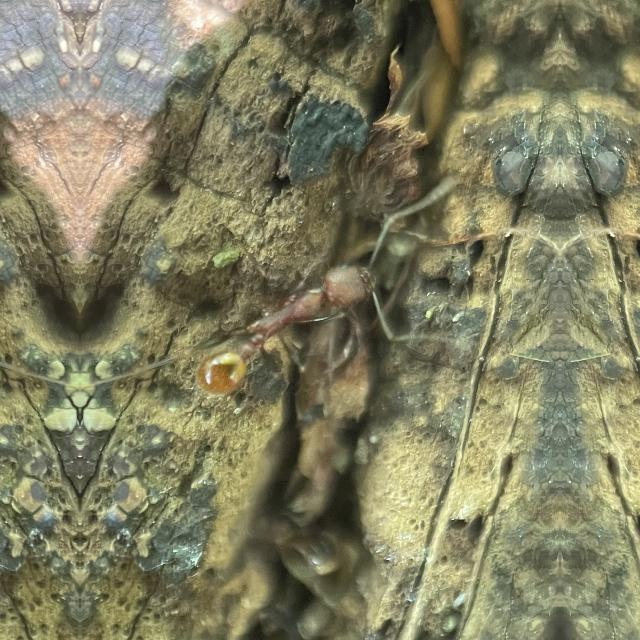Apheanogaster: (176, 220, 400, 428)
